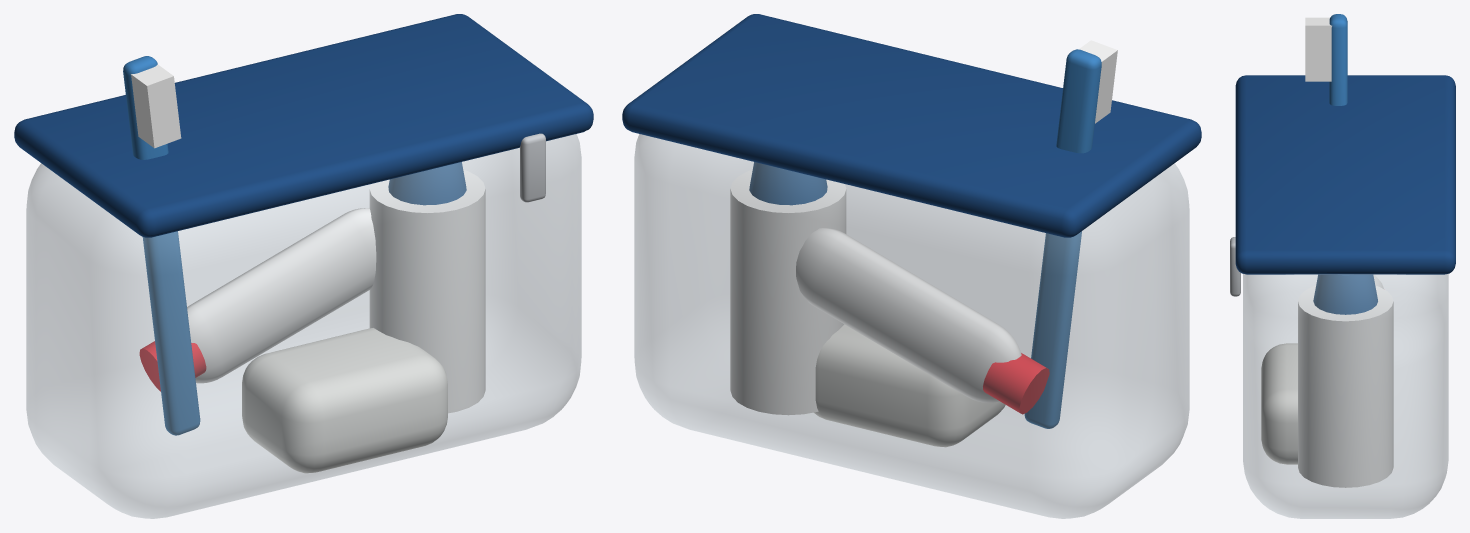
File: kit_de_higiene.fbx
3 views of the same model, side by side, from view 1: azimuth 30°, elevation 25°; view 2: azimuth 150°, elevation 25°; view 3: azimuth 270°, elevation 25° (orthographic). The views are drawn at different scales.
Visible parts, largest first — view 1: de_higiene_e6f1f8, de_higiene_1f4e86, de_higiene_f0f0ec, de_higiene_ffffff_02, de_higiene_ffffff_03, de_higiene_3e86c6, de_higiene_ffffff, de_higiene_2f69a3, de_higiene_c9cdd2, de_higiene_f5333f; view 2: de_higiene_e6f1f8, de_higiene_1f4e86, de_higiene_ffffff_02, de_higiene_ffffff_03, de_higiene_f0f0ec, de_higiene_3e86c6, de_higiene_f5333f, de_higiene_2f69a3, de_higiene_ffffff; view 3: de_higiene_e6f1f8, de_higiene_1f4e86, de_higiene_ffffff_02, de_higiene_f0f0ec, de_higiene_2f69a3, de_higiene_ffffff, de_higiene_3e86c6, de_higiene_c9cdd2.
Part boxes in pixels (<box>): de_higiene_e6f1f8: <box>26,134,581,518</box>; de_higiene_1f4e86: <box>14,14,593,237</box>; de_higiene_f0f0ec: <box>242,328,447,473</box>; de_higiene_ffffff_02: <box>369,169,485,413</box>; de_higiene_ffffff_03: <box>187,208,376,383</box>; de_higiene_3e86c6: <box>123,56,200,435</box>; de_higiene_ffffff: <box>130,64,181,148</box>; de_higiene_2f69a3: <box>388,162,466,205</box>; de_higiene_c9cdd2: <box>520,133,545,202</box>; de_higiene_f5333f: <box>139,341,206,391</box>; de_higiene_e6f1f8: <box>634,134,1189,518</box>; de_higiene_1f4e86: <box>622,14,1201,237</box>; de_higiene_ffffff_02: <box>730,169,846,415</box>; de_higiene_ffffff_03: <box>796,228,1021,402</box>; de_higiene_f0f0ec: <box>814,324,1005,447</box>; de_higiene_3e86c6: <box>1024,49,1101,428</box>; de_higiene_f5333f: <box>983,353,1049,414</box>; de_higiene_2f69a3: <box>749,162,827,205</box>; de_higiene_ffffff: <box>1078,40,1117,123</box>; de_higiene_e6f1f8: <box>1243,274,1448,518</box>; de_higiene_1f4e86: <box>1235,75,1455,274</box>; de_higiene_ffffff_02: <box>1298,285,1393,487</box>; de_higiene_f0f0ec: <box>1261,343,1297,464</box>; de_higiene_2f69a3: <box>1313,274,1377,314</box>; de_higiene_ffffff: <box>1305,17,1331,81</box>; de_higiene_3e86c6: <box>1329,14,1347,105</box>; de_higiene_c9cdd2: <box>1230,237,1240,296</box>.
Size of the model in its own units: 1.7 by 1.46 by 0.8364.
